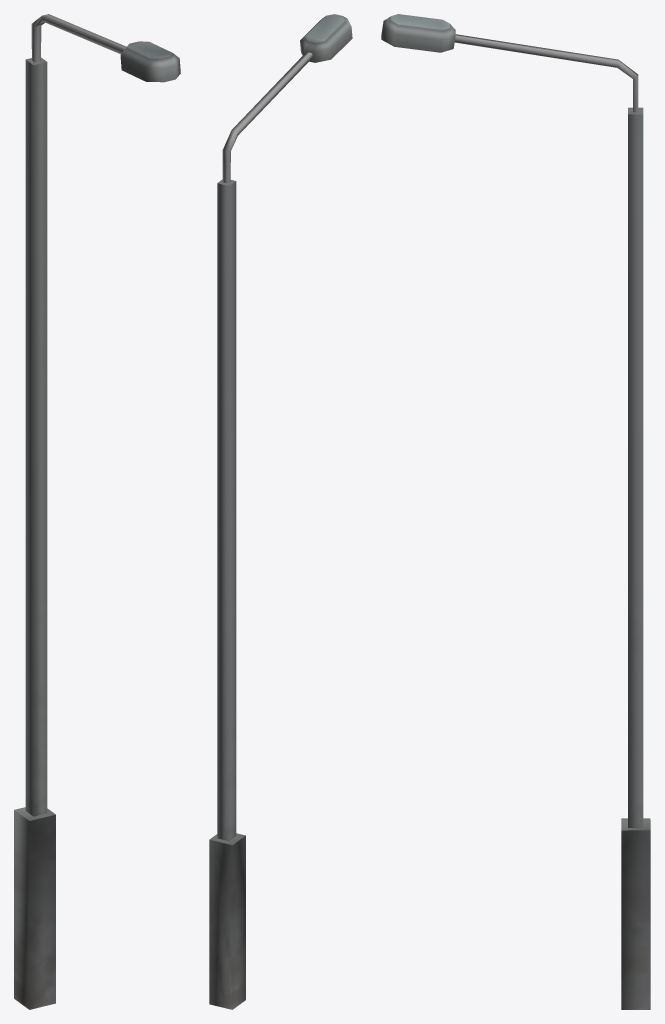
The model's file is Street_Light.fbx.
The picture shows the model from 3 angles, left to right: view 1: azimuth 30°, elevation 25°; view 2: azimuth 150°, elevation 25°; view 3: azimuth 270°, elevation 25°; orthographic projection. The views are drawn at different scales.
Parts seen in each view (by area): view 1: SM_Street_Light; view 2: SM_Street_Light; view 3: SM_Street_Light.
Part boxes in pixels (<box>): SM_Street_Light: <box>14,14,180,1009</box>; SM_Street_Light: <box>209,14,352,1009</box>; SM_Street_Light: <box>381,14,650,1009</box>.
Size of the model in its own units: 0.1801 by 5.14 by 1.27.
